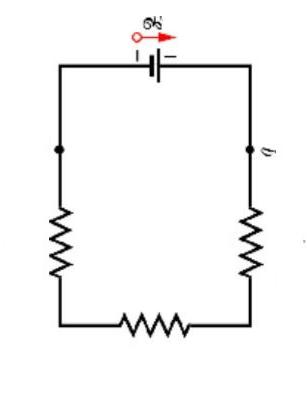resistor: (103, 294, 207, 354), (224, 189, 276, 296), (35, 193, 84, 292)
